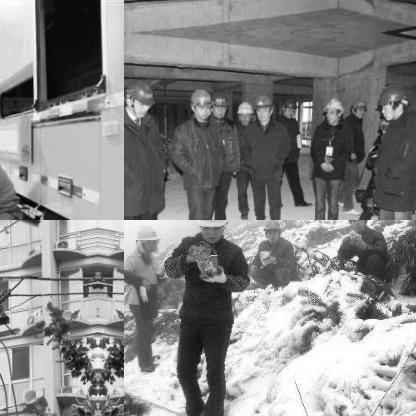Helmet: (124, 77, 155, 117), (378, 82, 408, 118), (130, 220, 160, 256), (191, 220, 232, 243), (252, 91, 274, 121), (190, 86, 210, 116), (321, 96, 344, 122), (260, 220, 285, 241), (278, 94, 298, 118), (350, 94, 368, 118), (212, 92, 228, 118), (236, 98, 252, 124), (342, 220, 370, 230)
